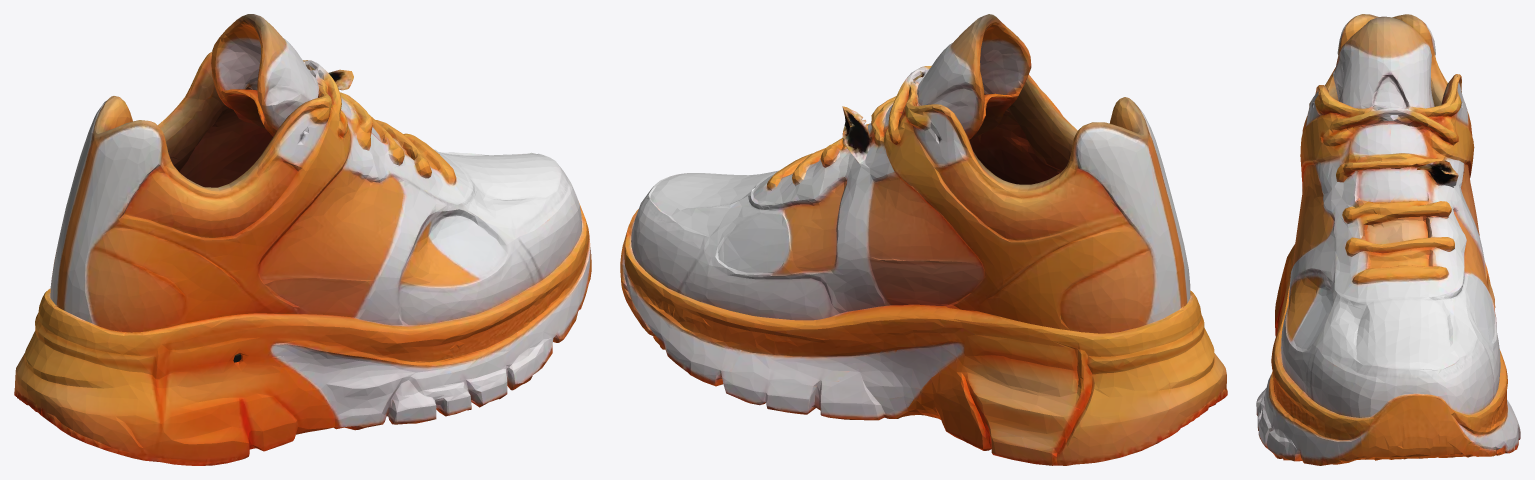
File: nube.glb
3 renders of one model, left to right at view 1: azimuth 30°, elevation 25°; view 2: azimuth 150°, elevation 25°; view 3: azimuth 270°, elevation 25°, orthographic. The views are drawn at different scales.
Visible parts, largest first — view 1: geometry_0; view 2: geometry_0; view 3: geometry_0.
Boxes of the visible parts, x1,y1,x2,y2 form: geometry_0: [14, 14, 591, 465]; geometry_0: [620, 14, 1227, 465]; geometry_0: [1256, 14, 1520, 465].
Size of the model in its own units: 0.9986 by 0.6553 by 0.4438.
1 material, 1 textured.
